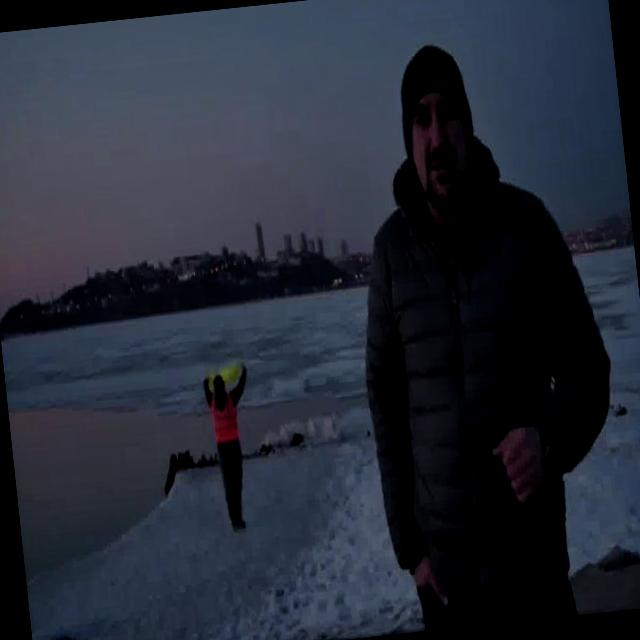vest: (208, 389, 239, 446), (202, 359, 245, 394)
